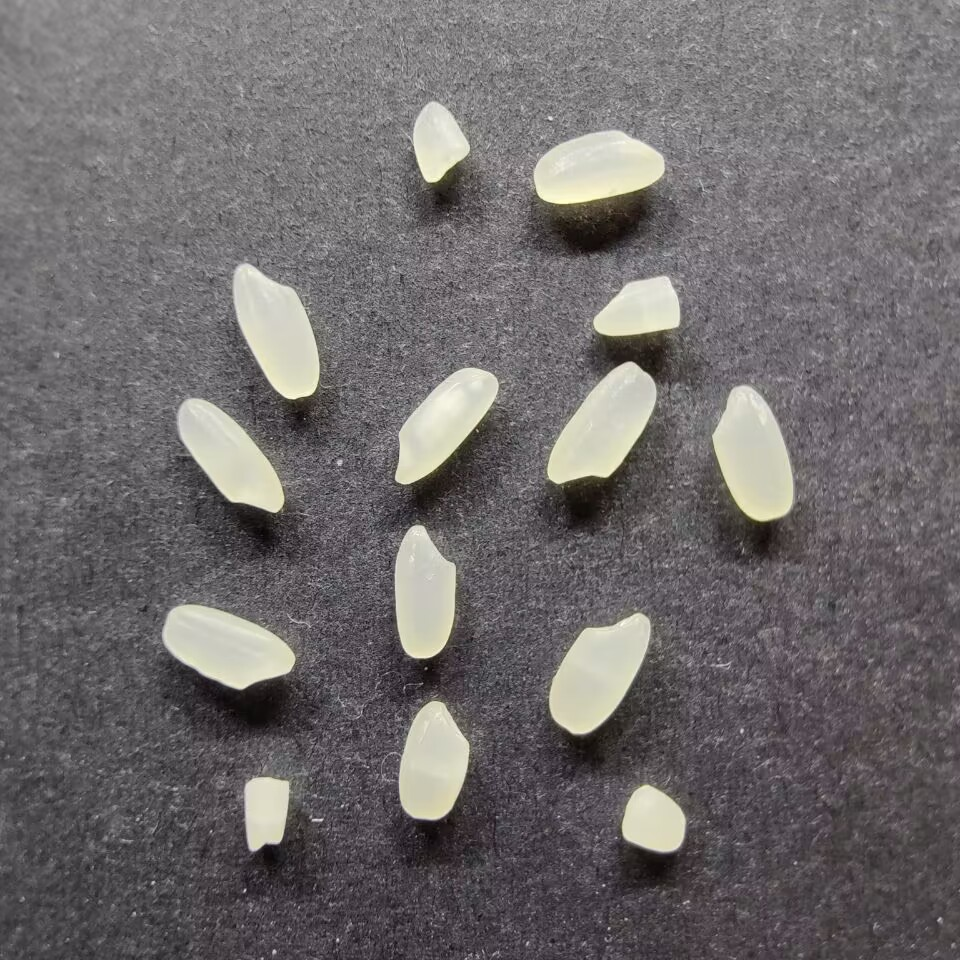broken: (591, 274, 681, 336), (411, 100, 470, 183), (620, 784, 686, 853), (243, 775, 288, 852)
rice: (546, 361, 656, 484), (548, 610, 652, 735), (393, 366, 499, 485), (177, 397, 284, 513), (231, 261, 320, 400), (709, 384, 794, 522), (161, 604, 295, 690), (532, 130, 666, 204), (397, 700, 470, 820), (393, 524, 457, 659)
